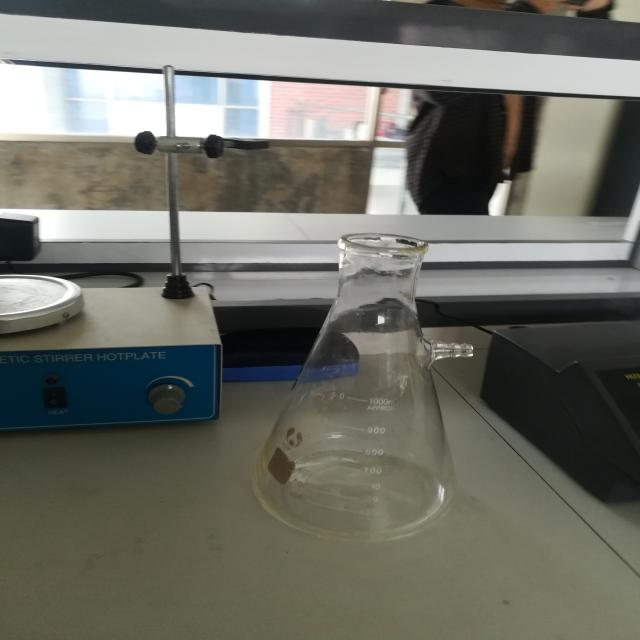Conical_Flask: (205, 189, 522, 559)
